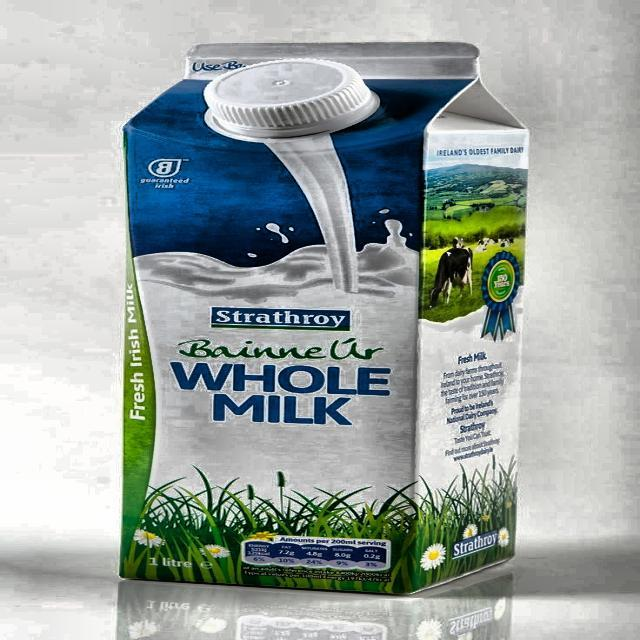cardboard: (118, 41, 530, 594)
